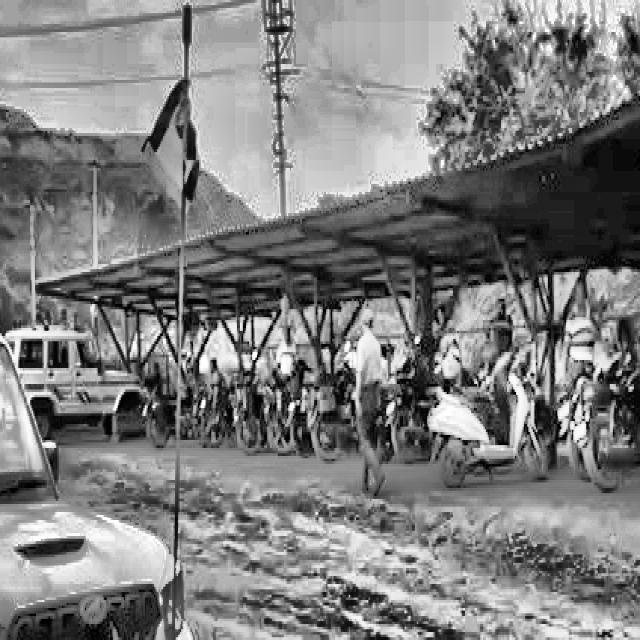light_vehicle: (0, 253, 198, 640), (18, 321, 137, 441)
